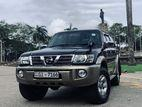car: (16, 29, 122, 104)
